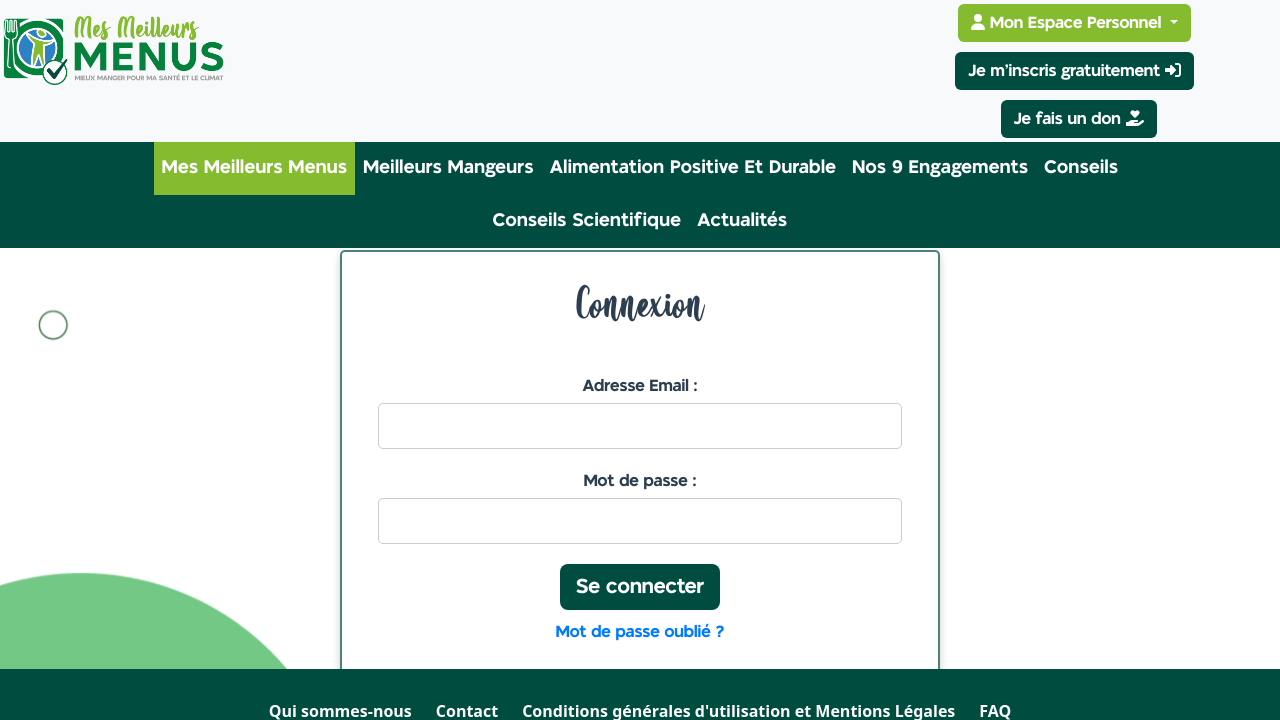
Test: Form Submission Test › should show error message on login failure
Expected: the form is shown, [358, 354, 922, 664]
In the field with id "email": (640, 426) [378, 403, 902, 449], type "test@example.com"
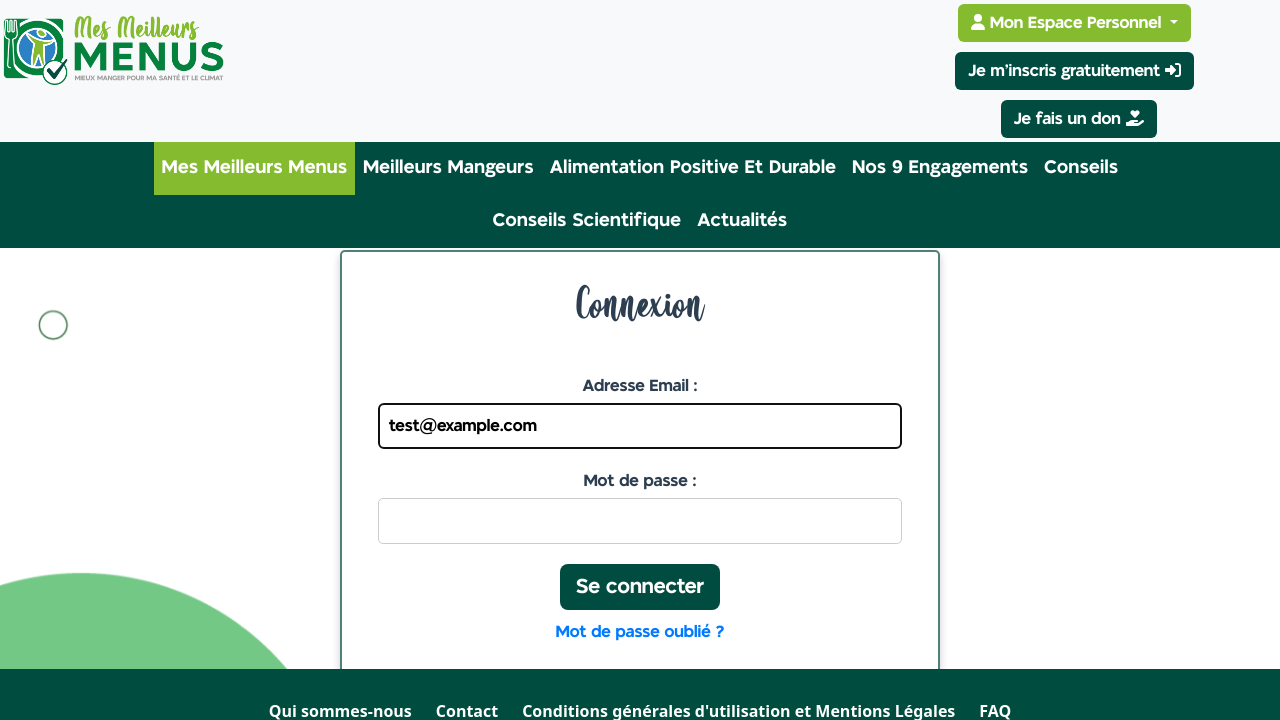
In the password field labelled "Mot de passe :": (640, 521) [378, 498, 902, 544], type "WrongPassword1!"
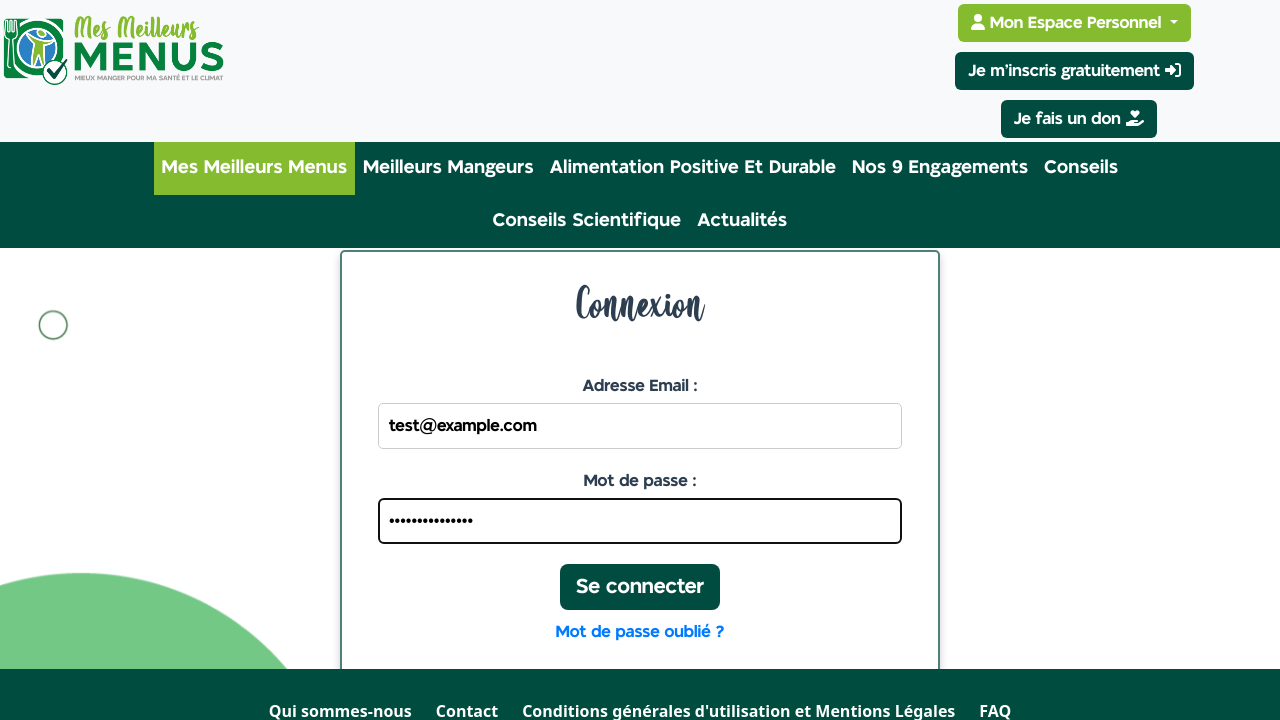
Submit the form, box [358, 354, 922, 664]
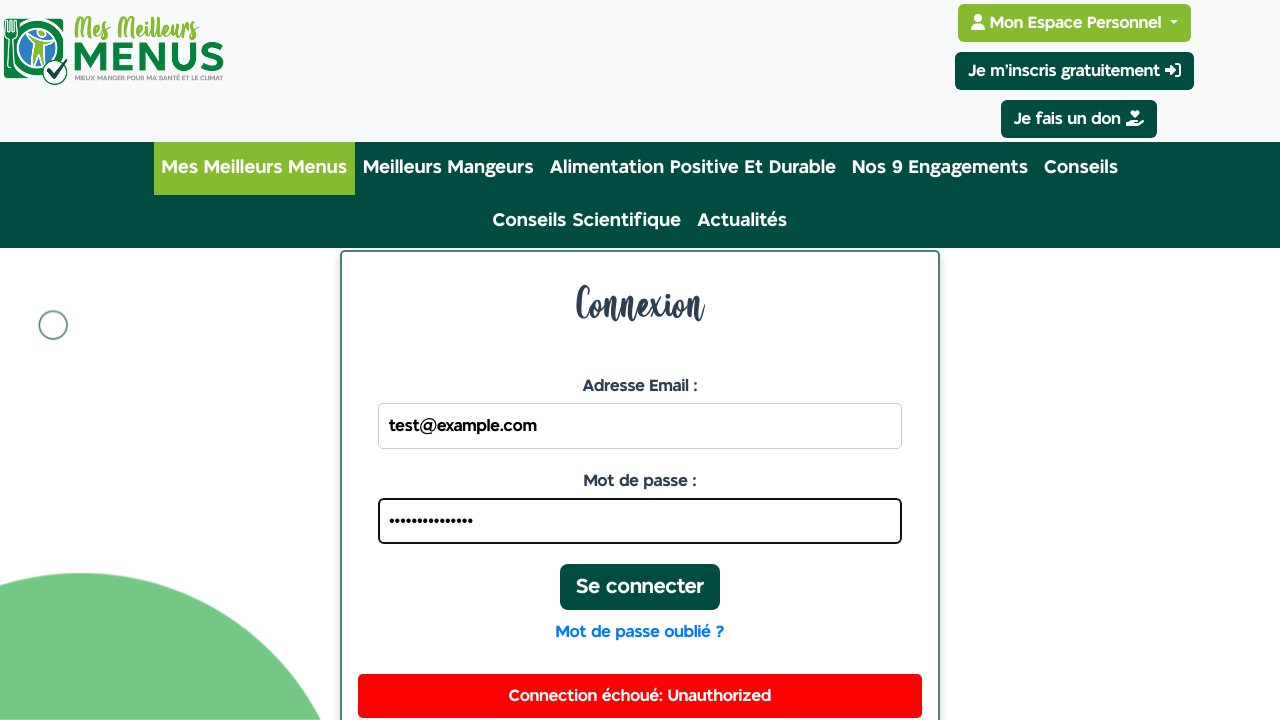
Now the text with class "success" reads "Connection échoué: Unauthorized", box [509, 688, 771, 704]
